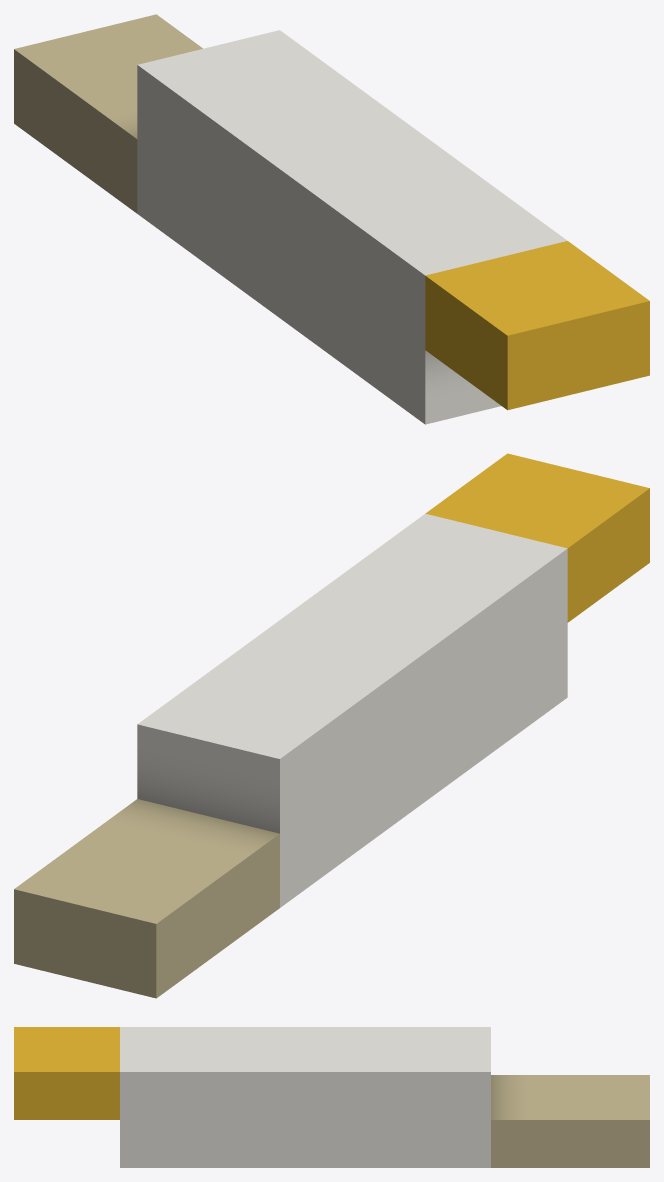
The model's file is cm_bird.glb.
3 renders of one model, top to bottom at view 1: azimuth 30°, elevation 25°; view 2: azimuth 150°, elevation 25°; view 3: azimuth 270°, elevation 25°, orthographic. The views are drawn at different scales.
Parts seen in each view (by area): view 1: cm_bird_body; view 2: cm_bird_body; view 3: cm_bird_body.
Boxes of the visible parts, x1,y1,x2,y2 form: cm_bird_body: (14,14,649,424); cm_bird_body: (14,453,649,998); cm_bird_body: (14,1027,649,1167).
Size of the model in its own units: 0.125 by 0.125 by 0.75.
Materials: 1 (1 with a texture image).
